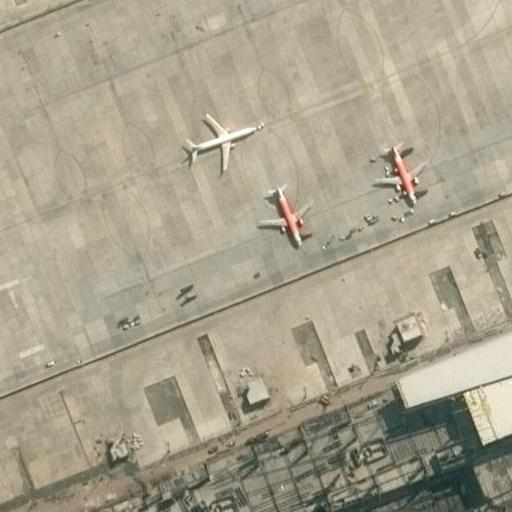Aircraft: (181, 109, 256, 168), (373, 141, 430, 209), (255, 183, 313, 249)
